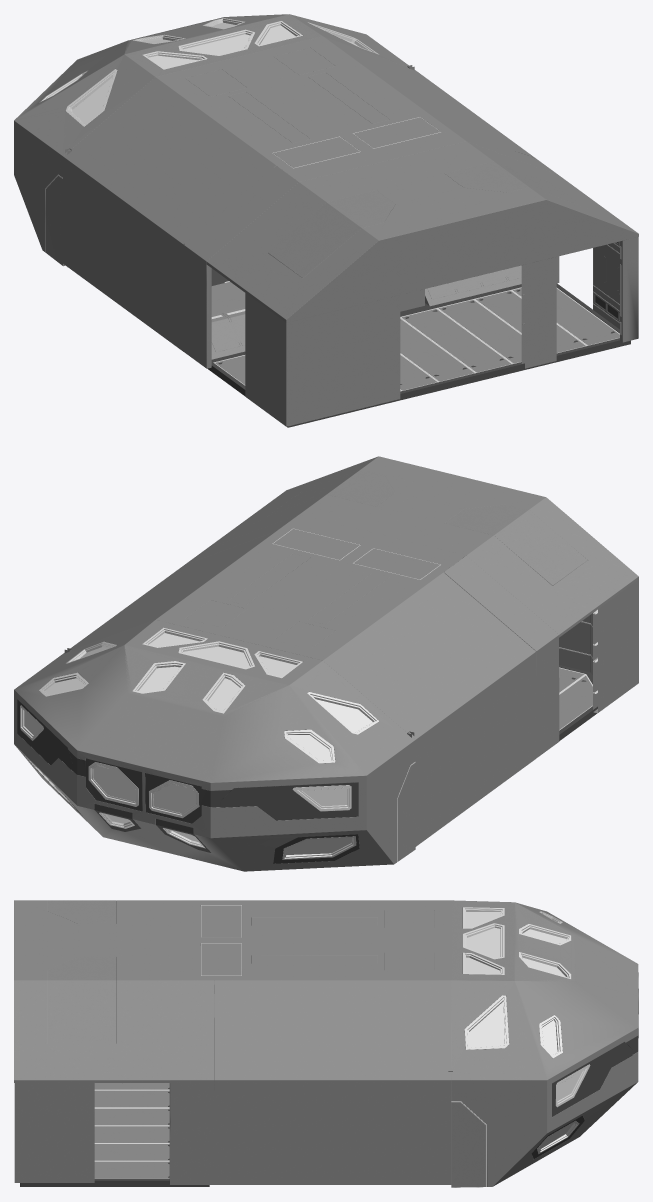
Rendered from Ship_Room_Main_001_v002.fbx.
The picture shows the model from 3 angles, top to bottom: view 1: azimuth 30°, elevation 25°; view 2: azimuth 150°, elevation 25°; view 3: azimuth 270°, elevation 25°; orthographic projection. The views are drawn at different scales.
Parts seen in each view (by area): view 1: Ship_Room_Main_Ceiling_Corner_001, Ship_Room_Main_Ceiling_Arch_Large_001, Ship_Room_Main_Bridge_001, Ship_Room_Main_Floor_Lower_001, Ship_Room_Main_Ceiling_Arch_Short_001, Ship_Room_Main_Floor_Upper_001, Ship_Room_Main_Wall_Corner_001, Ship_Room_Main_Wall_Short_001, Ship_Room_Main_Bridge_Windows_001.001; view 2: Ship_Room_Main_Bridge_001, Ship_Room_Main_Ceiling_Arch_Large_001, Ship_Room_Main_Ceiling_Corner_001, Ship_Room_Main_Bridge_Windows_001.001, Ship_Room_Main_Ceiling_Arch_Short_001, Ship_Room_Main_Floor_Lower_001; view 3: Ship_Room_Main_Ceiling_Arch_Large_001, Ship_Room_Main_Bridge_001, Ship_Room_Main_Ceiling_Corner_001, Ship_Room_Main_Ceiling_Arch_Short_001, Ship_Room_Main_Floor_Lower_001, Ship_Room_Main_Wall_Corner_001, Ship_Room_Main_Bridge_Windows_001.001.
Boxes of the visible parts, x1=… form: Ship_Room_Main_Ceiling_Corner_001: x1=206, y1=141, x2=638, y2=426; Ship_Room_Main_Ceiling_Arch_Large_001: x1=63, y1=36, x2=535, y2=351; Ship_Room_Main_Bridge_001: x1=14, y1=14, x2=408, y2=266; Ship_Room_Main_Floor_Lower_001: x1=207, y1=283, x2=630, y2=427; Ship_Room_Main_Ceiling_Arch_Short_001: x1=183, y1=125, x2=559, y2=368; Ship_Room_Main_Floor_Upper_001: x1=211, y1=265, x2=521, y2=359; Ship_Room_Main_Wall_Corner_001: x1=593, y1=237, x2=638, y2=342; Ship_Room_Main_Wall_Short_001: x1=521, y1=257, x2=556, y2=368; Ship_Room_Main_Bridge_Windows_001.001: x1=72, y1=22, x2=360, y2=123; Ship_Room_Main_Bridge_001: x1=14, y1=620, x2=415, y2=871; Ship_Room_Main_Ceiling_Arch_Large_001: x1=64, y1=515, x2=536, y2=846; Ship_Room_Main_Ceiling_Corner_001: x1=207, y1=456, x2=638, y2=713; Ship_Room_Main_Bridge_Windows_001.001: x1=24, y1=633, x2=372, y2=854; Ship_Room_Main_Ceiling_Arch_Short_001: x1=185, y1=515, x2=559, y2=758; Ship_Room_Main_Floor_Lower_001: x1=559, y1=665, x2=597, y2=740; Ship_Room_Main_Ceiling_Arch_Large_001: x1=170, y1=900, x2=452, y2=1184; Ship_Room_Main_Bridge_001: x1=451, y1=900, x2=638, y2=1187; Ship_Room_Main_Ceiling_Corner_001: x1=14, y1=900, x2=170, y2=1082; Ship_Room_Main_Ceiling_Arch_Short_001: x1=169, y1=980, x2=214, y2=1184; Ship_Room_Main_Floor_Lower_001: x1=20, y1=1083, x2=209, y2=1186; Ship_Room_Main_Wall_Corner_001: x1=14, y1=1083, x2=94, y2=1182; Ship_Room_Main_Bridge_Windows_001.001: x1=466, y1=912, x2=582, y2=1148.
Bounding box in the file's own units: 1594 × 726 × 2498.
